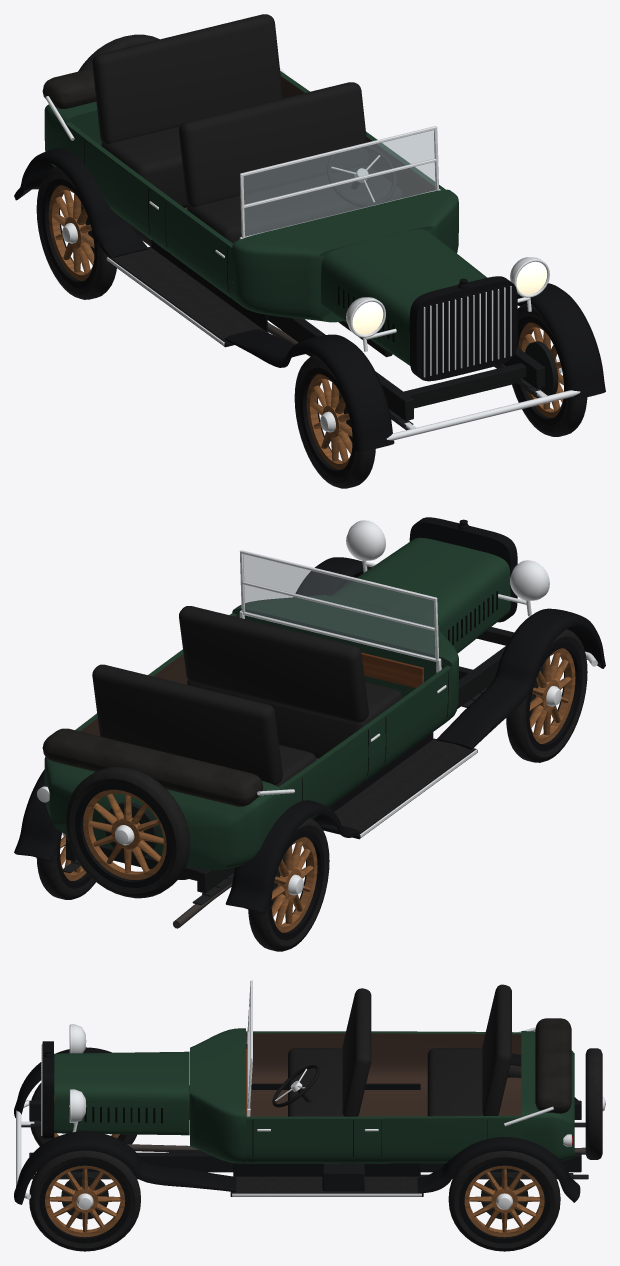
File: touring-car.glb
3 views of the same model, one above another, from view 1: azimuth 30°, elevation 25°; view 2: azimuth 150°, elevation 25°; view 3: azimuth 270°, elevation 25° (orthographic). The views are drawn at different scales.
Parts seen in each view (by area): view 1: Touring_Car, Wheel_RR, Wheel_FR, Wheel_FL; view 2: Touring_Car, Wheel_FR, Wheel_RR, Wheel_RL; view 3: Touring_Car, Wheel_FL, Wheel_RL, Wheel_FR.
Part boxes in pixels (<box>): Touring_Car: <box>14,14,605,451</box>; Wheel_RR: <box>36,166,116,299</box>; Wheel_FR: <box>294,355,375,488</box>; Wheel_FL: <box>512,303,587,436</box>; Touring_Car: <box>14,517,605,928</box>; Wheel_FR: <box>506,629,587,762</box>; Wheel_RR: <box>248,818,329,951</box>; Wheel_RL: <box>36,832,95,899</box>; Touring_Car: <box>14,980,605,1204</box>; Wheel_FL: <box>29,1150,140,1251</box>; Wheel_RL: <box>448,1151,560,1251</box>; Wheel_FR: <box>29,1072,136,1146</box>.
Bounding box in the file's own units: 1.71 × 1.5 × 4.23.
Materials: 22 (5 with a texture image).
